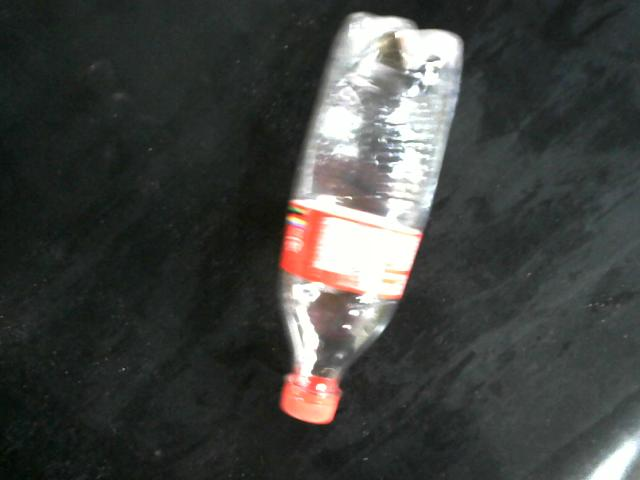bottle: (275, 10, 465, 425)
